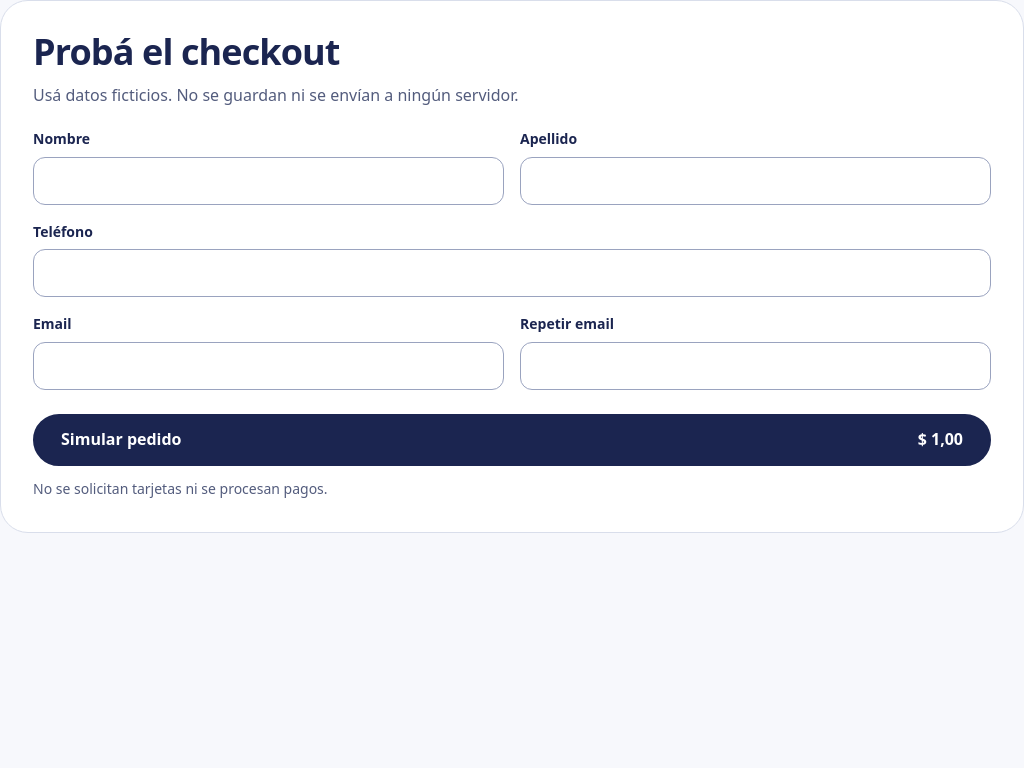
Test: bloquea emails diferentes
The width and height of the screenshot is (1024, 768).
In the field labelled "Nombre": coordinates (268, 181) [33,157,504,205], type "Demo"
In the field labelled "Apellido": coordinates (756, 181) [520,157,991,205], type "Demo"
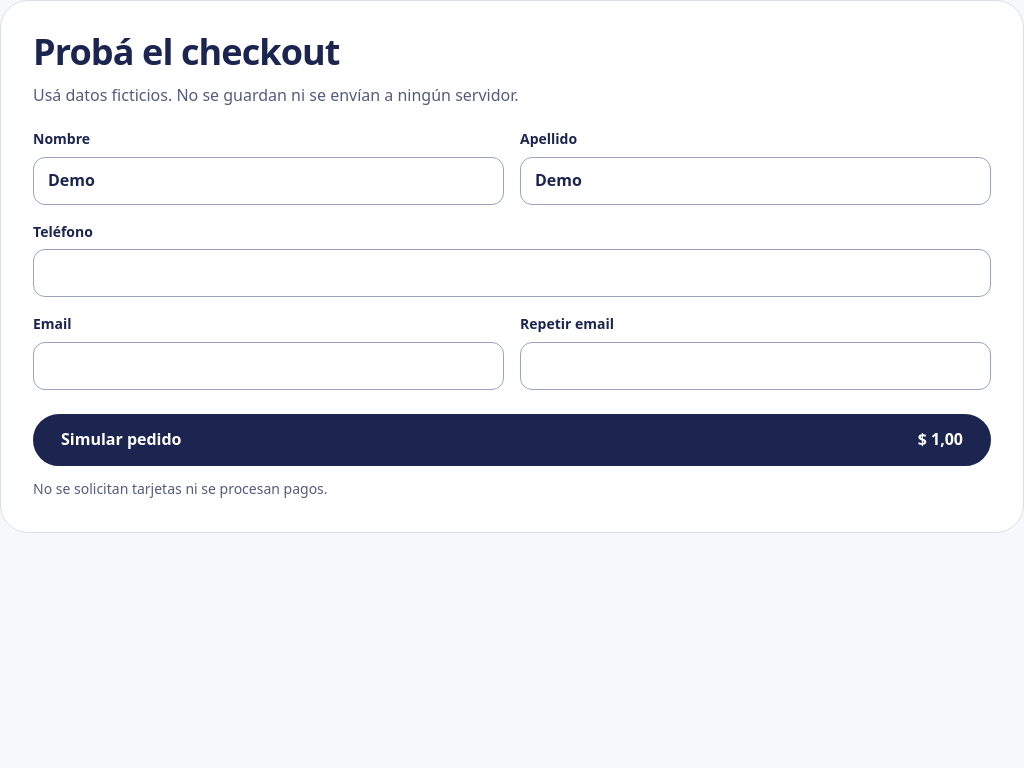
In the field labelled "Teléfono": coordinates (512, 273) [33,249,991,297], type "Demo"
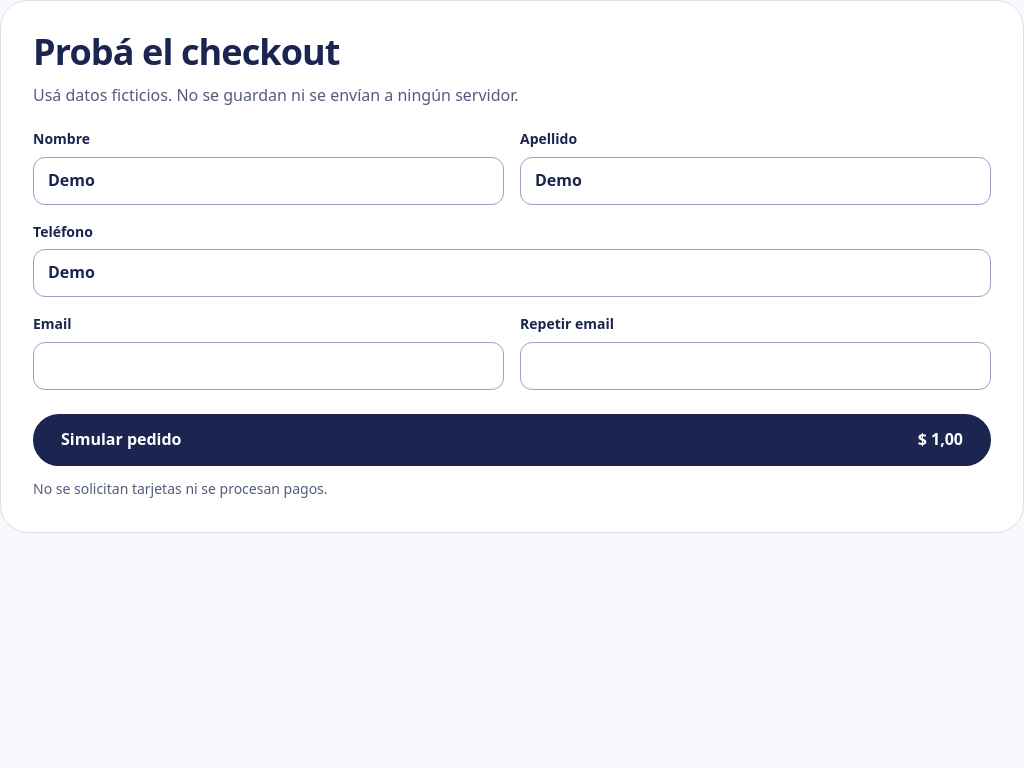
In the field labelled "Email": coordinates (268, 366) [33,342,504,390], type "demo@example.com"
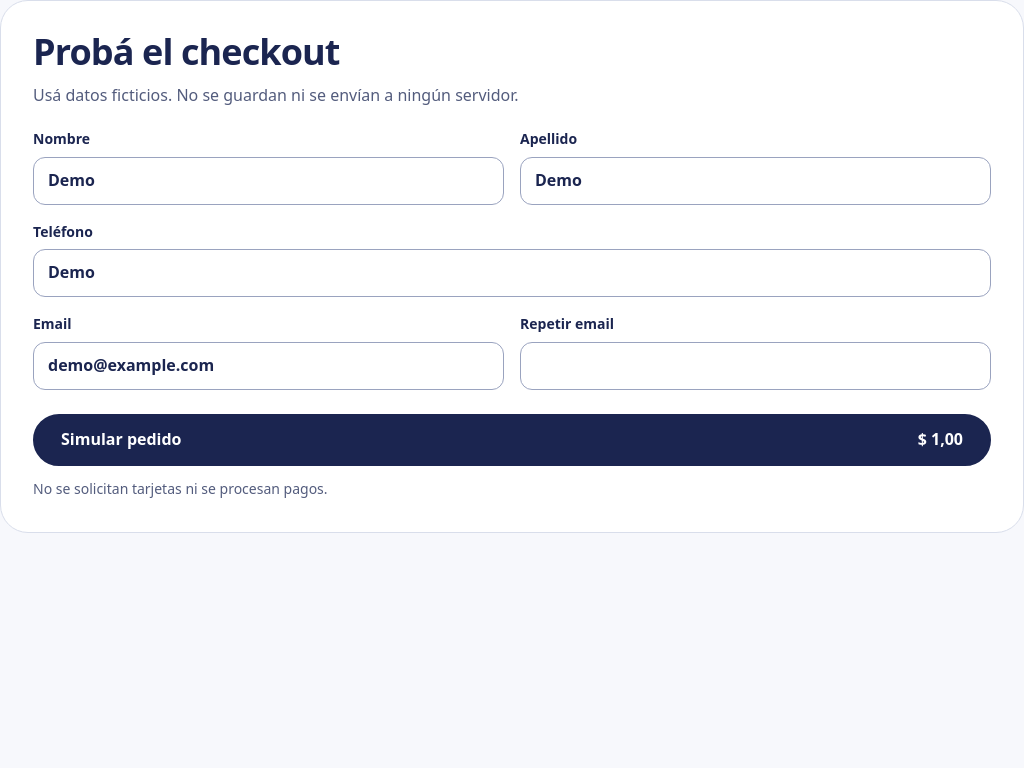
In the field labelled "Repetir email": coordinates (756, 366) [520,342,991,390], type "demo@example.com"
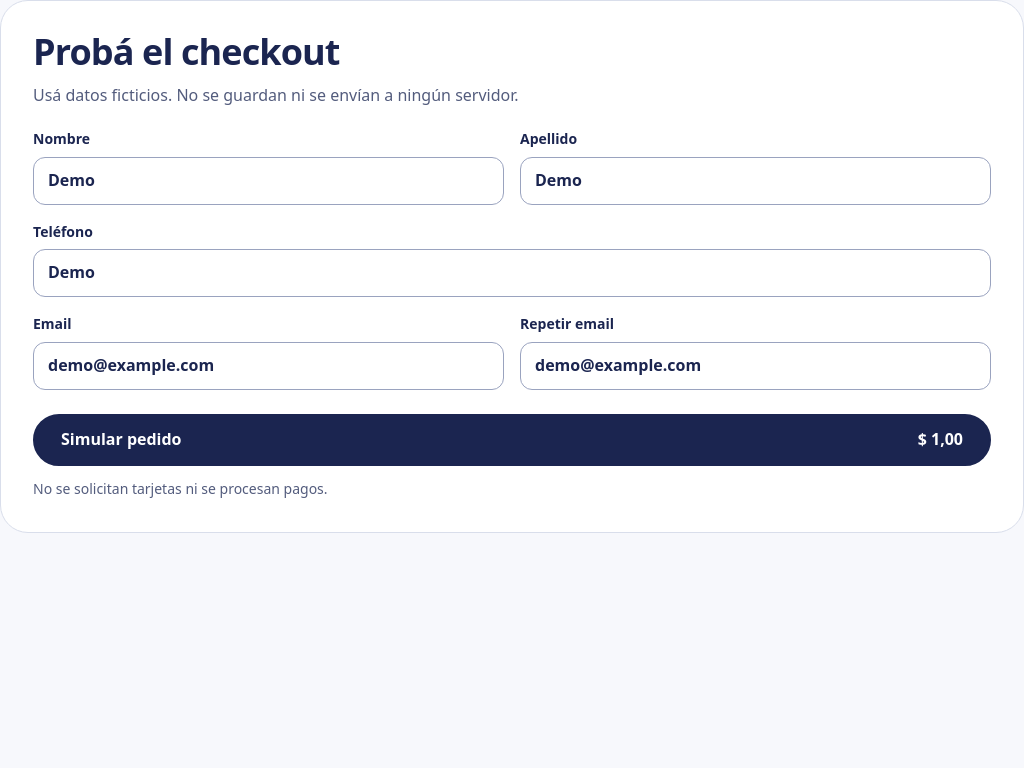
Replace the text in the field labelled "Repetir email" with "other@example.com": coordinates (756, 366) [520,342,991,390]
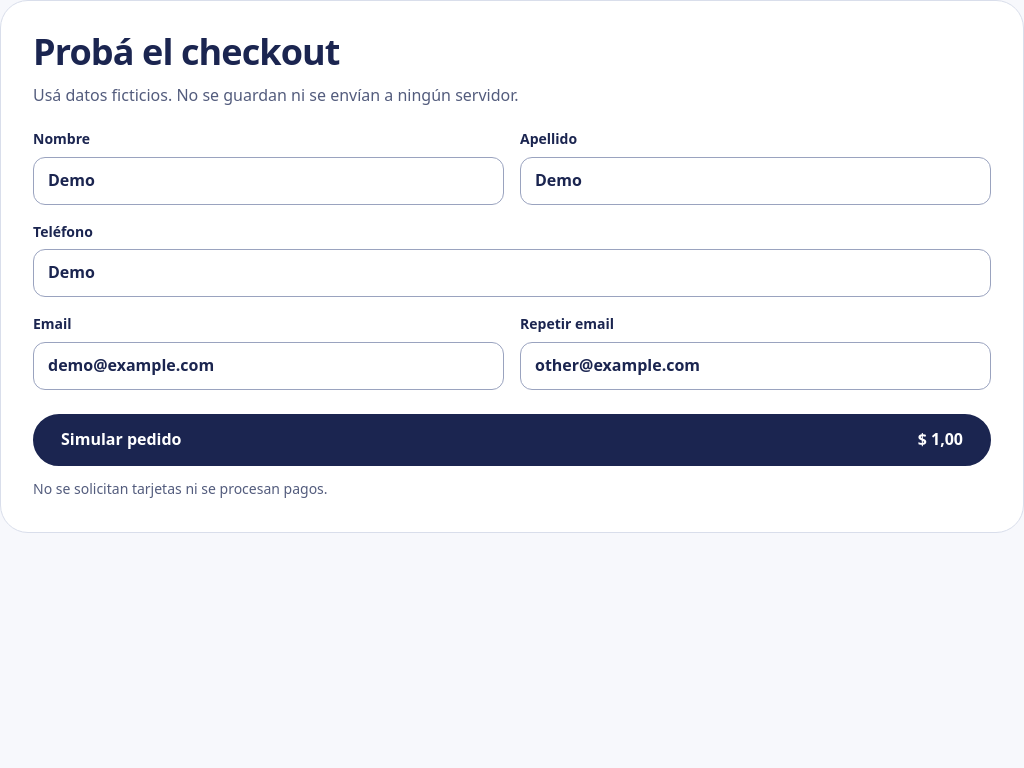
Submit the form named "Simular pedido"
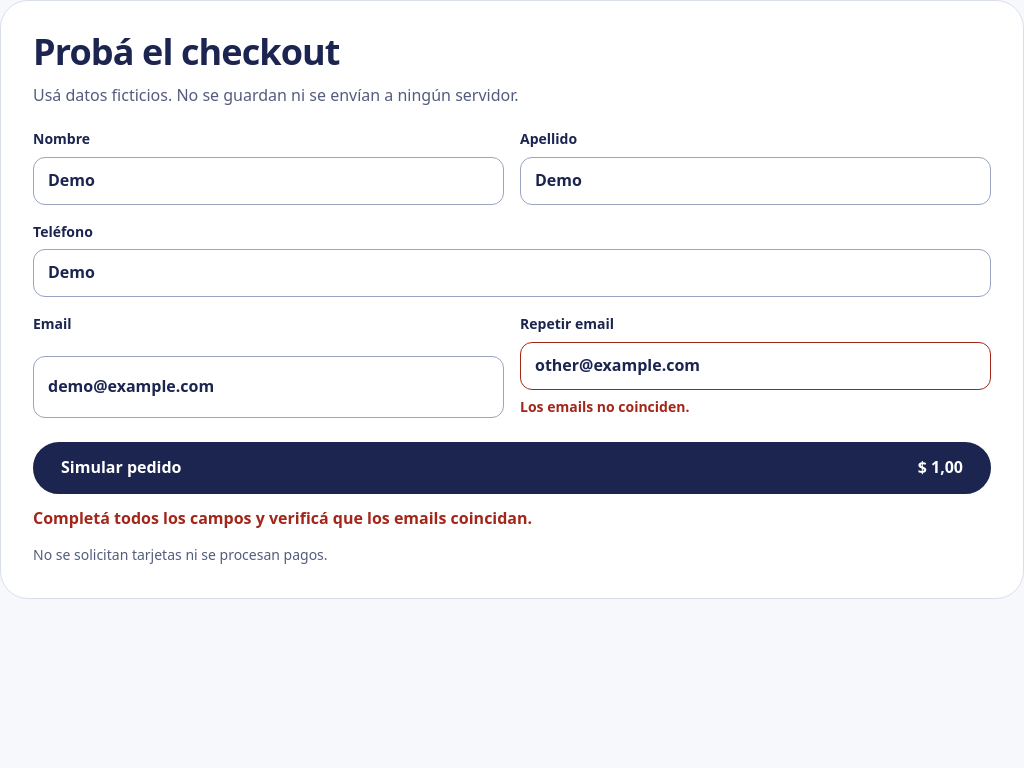
Now the message shows "emails coincidan", box [33,507,532,529]
